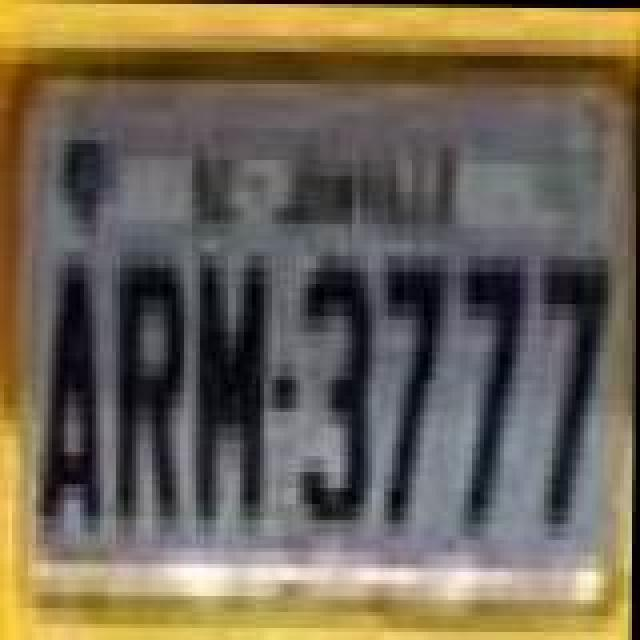3: (302, 262, 378, 530)
7: (542, 250, 618, 530), (456, 264, 528, 532), (386, 262, 454, 530)
A: (40, 266, 112, 534)
M: (194, 254, 270, 534)
R: (114, 260, 190, 528)
